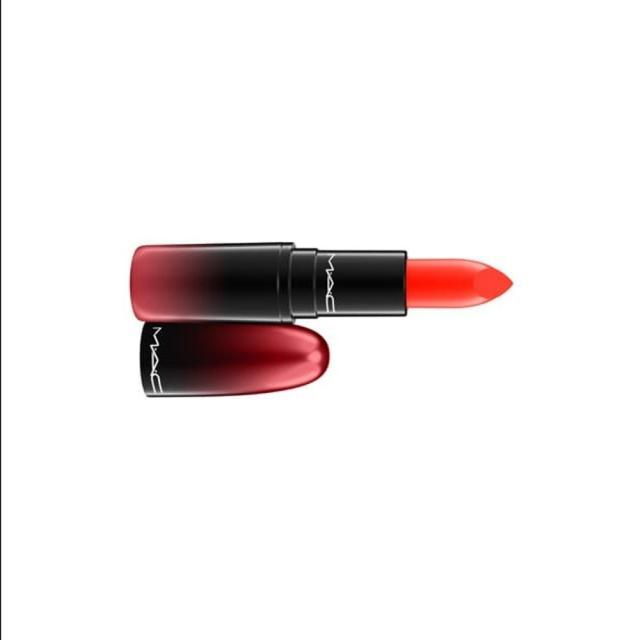lipstick: (122, 219, 531, 409)
